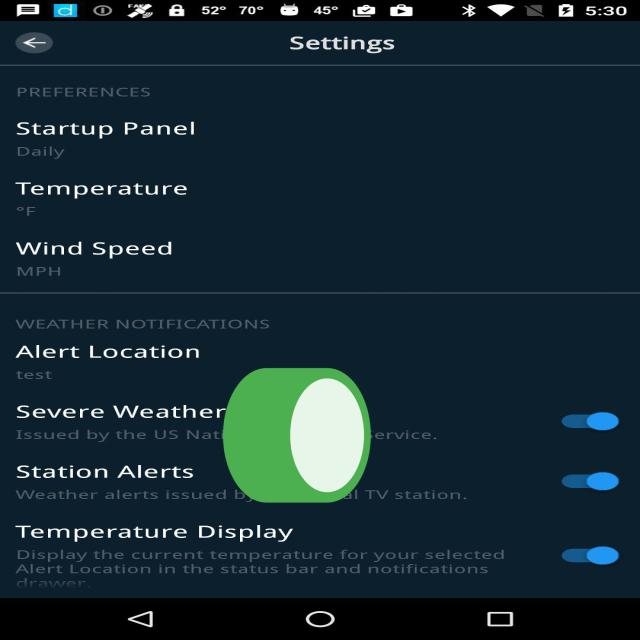social proof: (216, 316, 378, 565)
